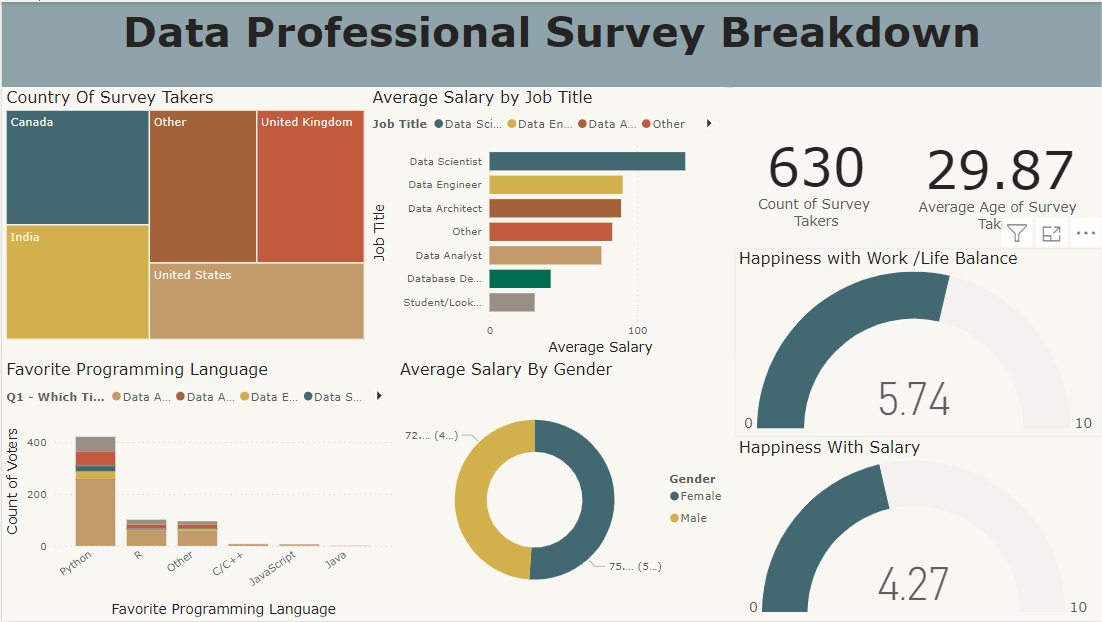

This screenshot's page, from the dashboard's own definition file:
{"tool":"powerbi","page":{"name":"Page 1","canvas":[1280,720],"ordinal":0},"visuals":[{"type":"textbox","box":[0,0,1280.3,98.9],"z":0},{"type":"card","fields":{"Values":["Count(Data Professional Survey.Unique ID)"]},"box":[852.6,98.9,190.6,197.9],"z":1},{"type":"card","fields":{"Values":["Avg(Data Professional Survey.Q10 - Current Age)"]},"box":[1043.1,98.9,237.1,205.1],"z":2},{"type":"barChart","title":"Average Salary by Job Title","fields":{"Category":["Data Professional Survey.Q1 - Which Title Best Fits your Current Role?.1"],"Y":["Avg(Data Professional Survey.Average Salary)"],"Series":["Data Professional Survey.Q1 - Which Title Best Fits your Current Role?.1"]},"box":[426.3,98.9,416.1,317.2],"z":3},{"type":"columnChart","title":"Favorite Programming Language ","fields":{"Category":["Data Professional Survey.Q5 - Favorite Programming Language.1"],"Y":["CountNonNull(Data Professional Survey.Unique ID)"],"Series":["Data Professional Survey.Q1 - Which Title Best Fits your Current Role?.1"]},"box":[0,416.1,458.3,304.1],"z":4},{"type":"treemap","title":"Country Of Survey Takers","fields":{"Group":["Data Professional Survey.Q11 - Which Country do you live in?.1"],"Values":["Count(Data Professional Survey.Q11 - Which Country do you live in?.1)"]},"box":[0,98.9,426.3,298.3],"z":5},{"type":"gauge","title":"Happiness with Work /Life Balance","fields":{"Y":["Avg(Data Professional Survey.Q6 - How Happy are you in your Current Position with the following? (Work/Life Balance))"],"MinValue":["Min(Data Professional Survey.Q6 - How Happy are you in your Current Position with the following? (Work/Life Balance))"],"MaxValue":["Max(Data Professional Survey.Q6 - How Happy are you in your Current Position with the following? (Work/Life Balance))"]},"box":[852.6,286.6,427.7,219.7],"z":6},{"type":"gauge","title":"Happiness With Salary","fields":{"Y":["Avg(Data Professional Survey.Q6 - How Happy are you in your Current Position with the following? (Salary))"],"MinValue":["Min(Data Professional Survey.Q6 - How Happy are you in your Current Position with the following? (Salary))"],"MaxValue":["Max(Data Professional Survey.Q6 - How Happy are you in your Current Position with the following? (Salary))"]},"box":[852.6,506.3,427.7,213.9],"z":7},{"type":"donutChart","title":"Average Salary By Gender","fields":{"Category":["Data Professional Survey.Q9 - Male/Female?"],"Y":["Avg(Data Professional Survey.Average Salary)"]},"box":[458.3,416.1,394.3,304.1],"z":8}]}

Visuals, with their boxes in screenshot pixels (x1, y1, x2, y2), scaled from the page's 1280x720 canvas onto the 1102x622 screenshot:
textbox: select_region(0, 0, 1101, 85)
card - Count(Data Professional Survey.Unique ID): select_region(734, 85, 898, 256)
card - Avg(Data Professional Survey.Q10 - Current Age): select_region(898, 85, 1101, 263)
"Average Salary by Job Title" barChart: select_region(367, 85, 725, 359)
"Favorite Programming Language " columnChart: select_region(0, 359, 395, 621)
"Country Of Survey Takers" treemap: select_region(0, 85, 367, 343)
"Happiness with Work /Life Balance" gauge: select_region(734, 248, 1101, 437)
"Happiness With Salary" gauge: select_region(734, 437, 1101, 621)
"Average Salary By Gender" donutChart: select_region(395, 359, 734, 621)
